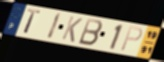1: (109, 23, 125, 50)
B: (77, 18, 104, 48)
I: (45, 12, 63, 41)
K: (60, 15, 84, 44)
P: (119, 25, 144, 52)
T: (22, 8, 42, 36)
